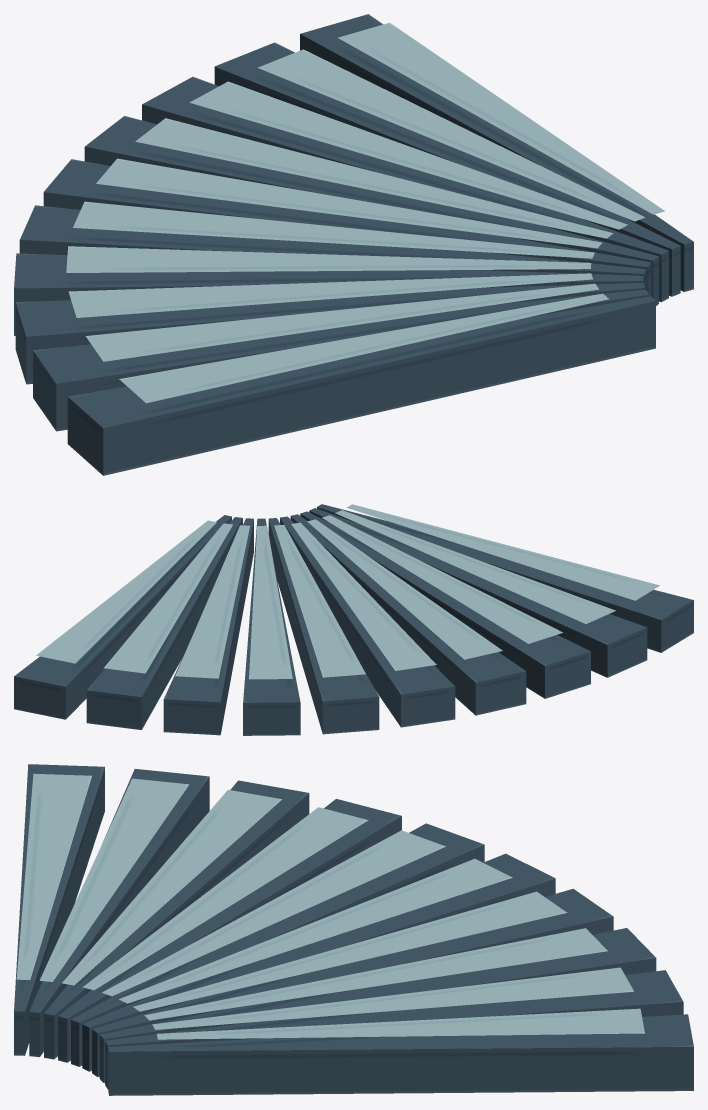
Rendered from sc_tread_curve_right_3.obj.
3 renders of one model, top to bottom at view 1: azimuth 30°, elevation 25°; view 2: azimuth 150°, elevation 25°; view 3: azimuth 270°, elevation 25°, orthographic. The views are drawn at different scales.
Size of the model in its own units: 17.45 by 1.56 by 17.44.
1 material, 1 textured.
